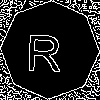R: (25, 25, 63, 72)
